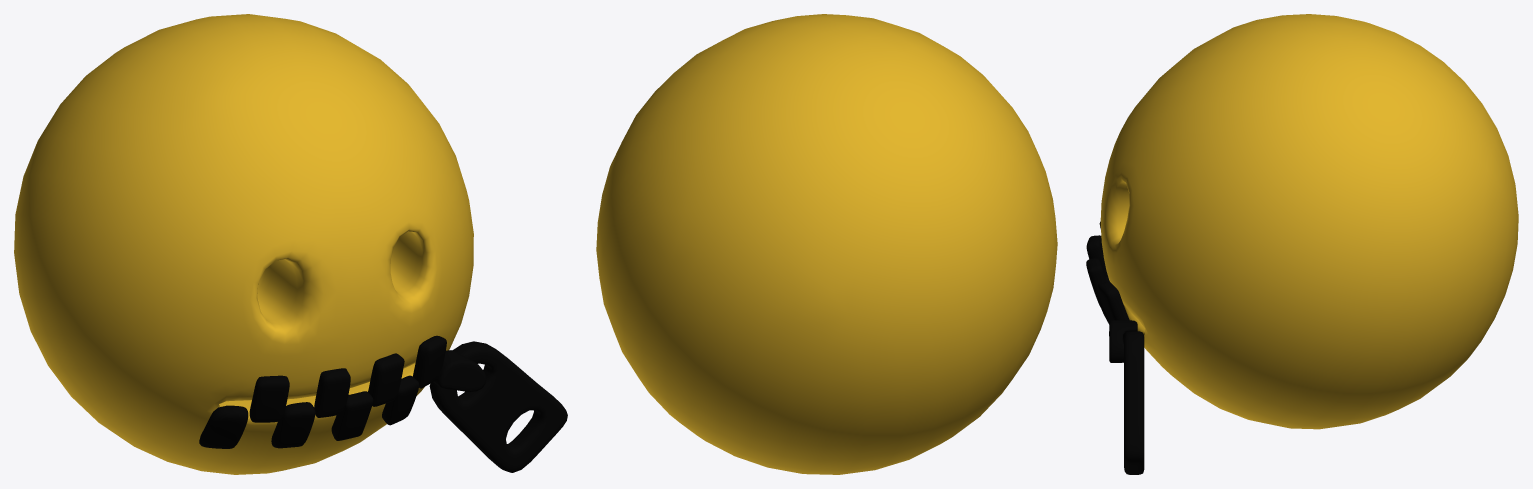
File: clouse mouth.glb
The picture shows the model from 3 angles, left to right: view 1: azimuth 30°, elevation 25°; view 2: azimuth 150°, elevation 25°; view 3: azimuth 270°, elevation 25°; orthographic projection. The views are drawn at different scales.
Parts seen in each view (by area): view 1: Group13488, Group64639, Group1, Group7, Group29051, Group10, Group4, Group3, ZBrush_defualt_group, Group2, Group9; view 2: Group13488; view 3: Group13488, Group64639, Group29051, Group2, Group3.
Part boxes in pixels (left/top/right/bottom): Group13488: left=14, top=14, right=473, bottom=474; Group64639: left=429, top=341, right=567, bottom=472; Group1: left=199, top=405, right=248, bottom=448; Group7: left=249, top=375, right=289, bottom=422; Group29051: left=433, top=350, right=486, bottom=392; Group10: left=271, top=402, right=315, bottom=448; Group4: left=314, top=368, right=350, bottom=417; Group3: left=368, top=353, right=404, bottom=406; ZBrush_defualt_group: left=331, top=391, right=373, bottom=440; Group2: left=412, top=335, right=446, bottom=388; Group9: left=382, top=375, right=419, bottom=425; Group13488: left=596, top=14, right=1057, bottom=474; Group13488: left=1100, top=14, right=1518, bottom=429; Group64639: left=1124, top=331, right=1144, bottom=474; Group29051: left=1109, top=320, right=1137, bottom=362; Group2: left=1098, top=281, right=1129, bottom=320; Group3: left=1086, top=258, right=1106, bottom=307.
Bounding box in the file's own units: 0.6024 × 0.5707 × 0.5925.
